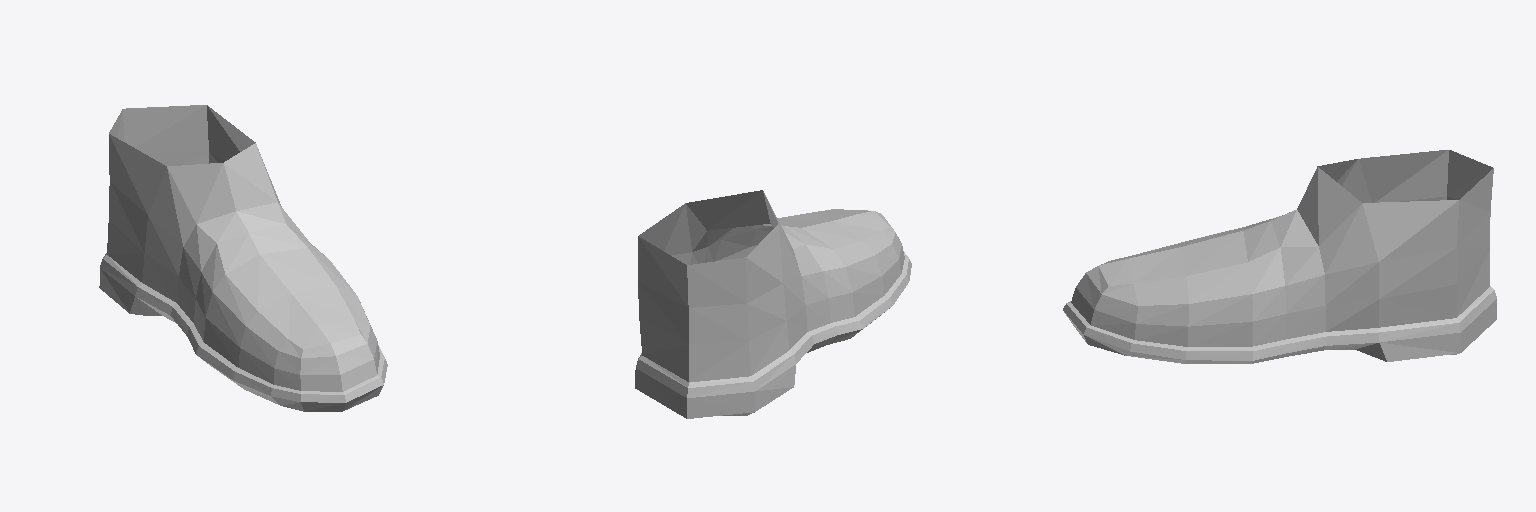
Rendered from Uth_Shoe_Lt_MshShape.obj.
3 renders of one model, left to right at view 1: azimuth 30°, elevation 25°; view 2: azimuth 150°, elevation 25°; view 3: azimuth 270°, elevation 25°, orthographic.
Parts seen in each view (by area): view 1: Uth_Shoe_Lt_Msh Uth_Body_Grp SkinnedMesh Mesh CharacterRoot; view 2: Uth_Shoe_Lt_Msh Uth_Body_Grp SkinnedMesh Mesh CharacterRoot; view 3: Uth_Shoe_Lt_Msh Uth_Body_Grp SkinnedMesh Mesh CharacterRoot.
Part boxes in pixels (bbox=[...]): Uth_Shoe_Lt_Msh Uth_Body_Grp SkinnedMesh Mesh CharacterRoot: bbox=[99, 105, 387, 411]; Uth_Shoe_Lt_Msh Uth_Body_Grp SkinnedMesh Mesh CharacterRoot: bbox=[635, 190, 911, 418]; Uth_Shoe_Lt_Msh Uth_Body_Grp SkinnedMesh Mesh CharacterRoot: bbox=[1063, 150, 1496, 363].
Size of the model in its own units: 14.96 by 15.33 by 36.37.